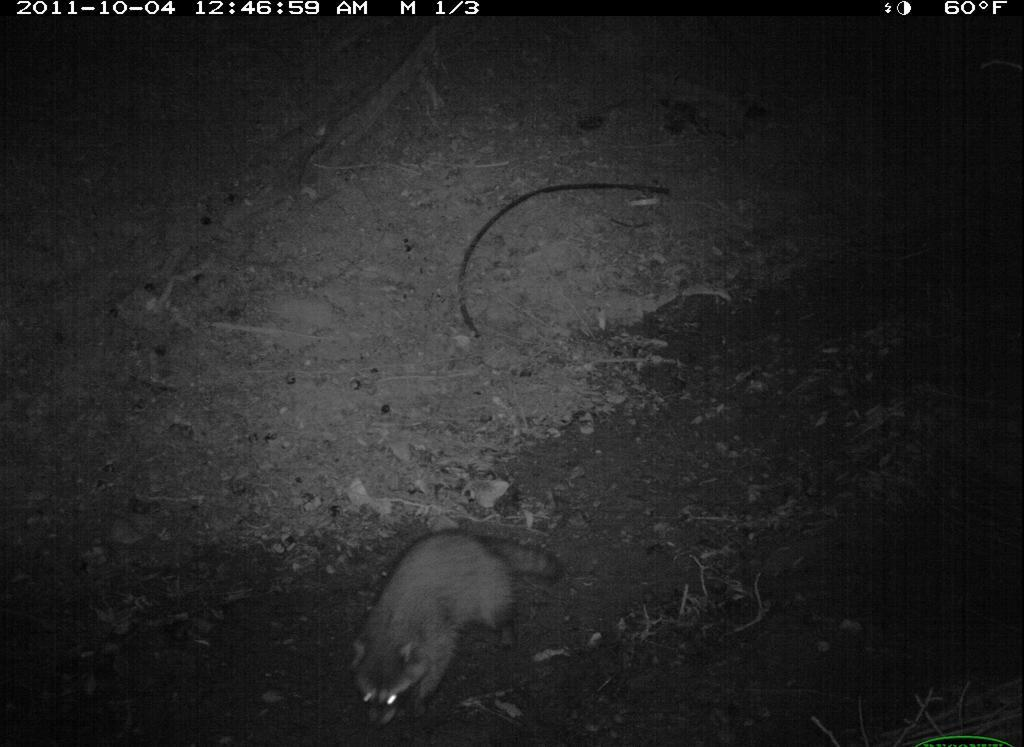raccoon: (346, 507, 568, 730)
